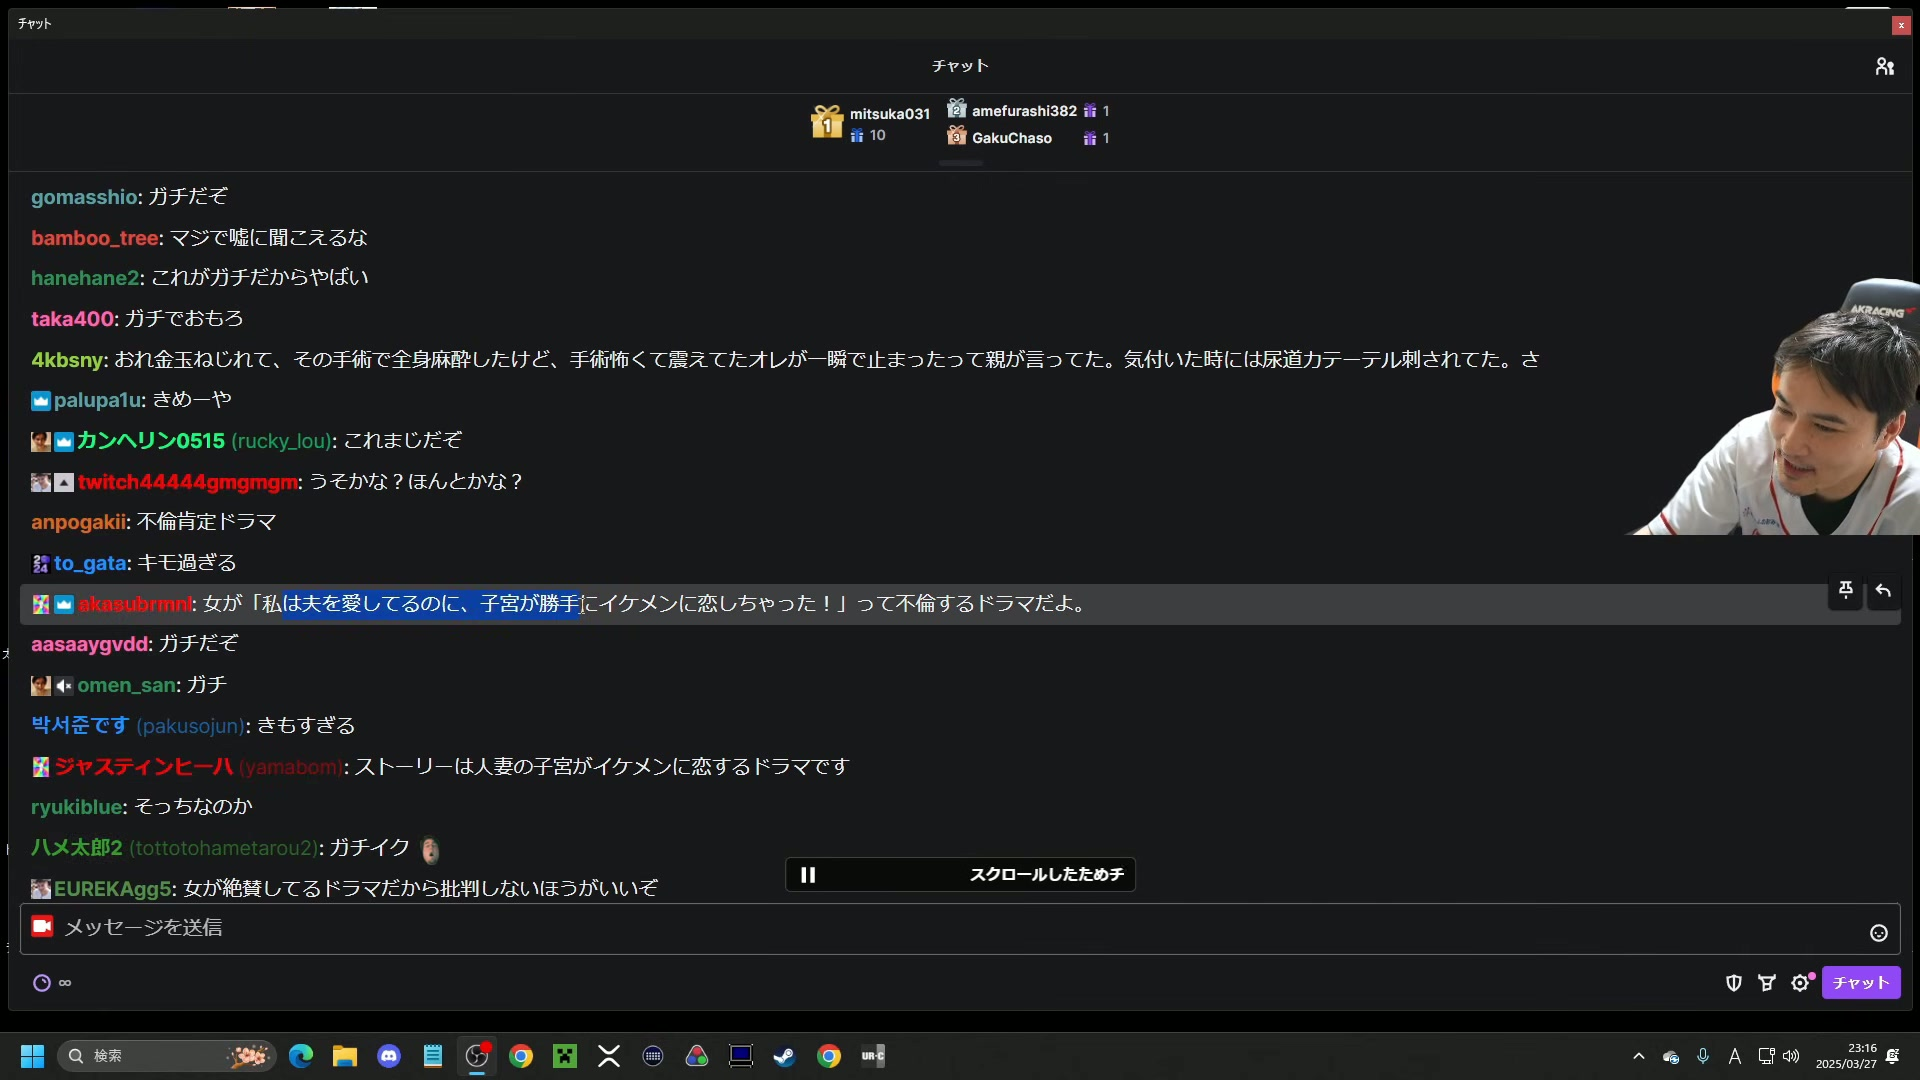stream_tag: (1621, 272, 1920, 535)
